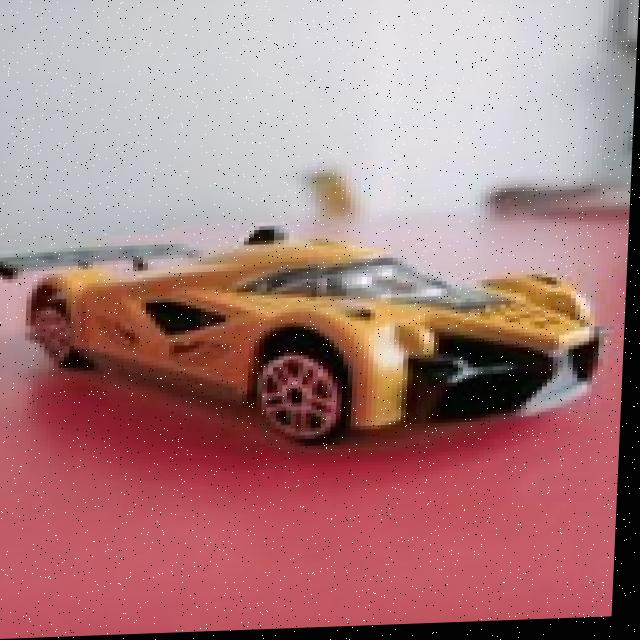car: (0, 159, 620, 506)
